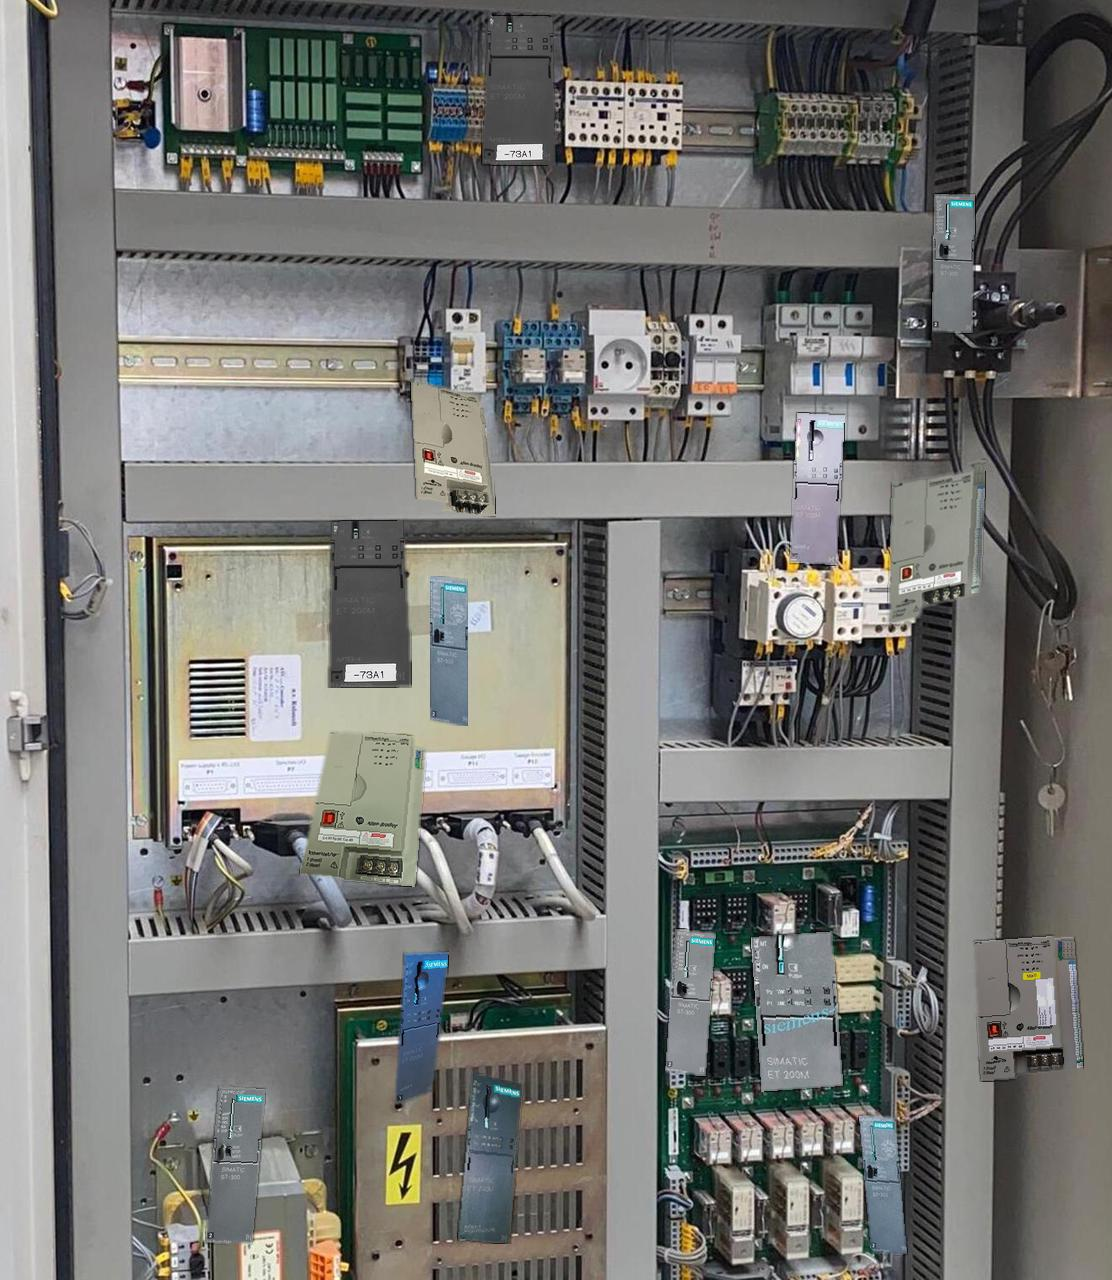AllenBradley: (300, 733, 424, 886), (889, 460, 985, 623), (974, 936, 1082, 1080), (410, 380, 495, 515)
Siemens: (206, 1087, 264, 1243), (665, 930, 715, 1075), (858, 1116, 906, 1254), (932, 194, 974, 332), (430, 576, 467, 725)
